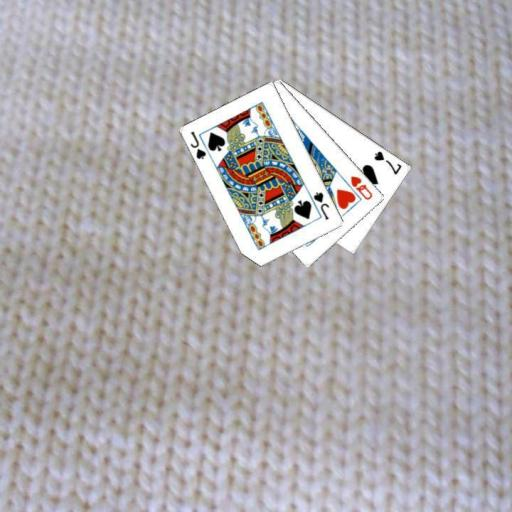card-corner: (371, 148, 404, 176), (348, 173, 374, 201), (310, 189, 331, 221), (188, 128, 208, 161)
